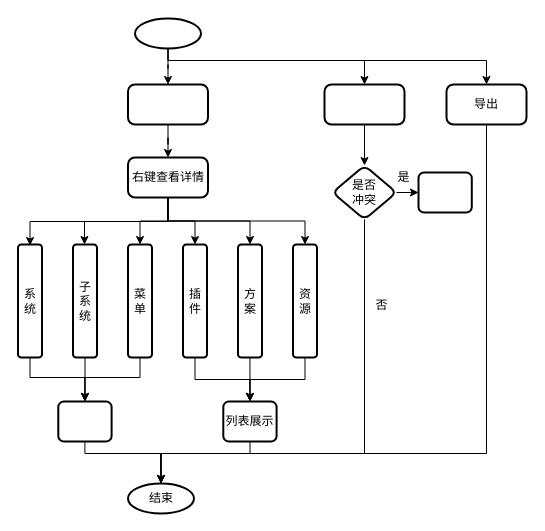
The diagram is 545 pixels wide and 531 high, and some of its shapes have lost their labels. Here are the shapes that lost their labels. From the top down, the centre of each, then its label:
the point at 168,33: 开始
the point at 167,104: 点击菜单节点，打开图谱
the point at 364,104: 导入
the point at 444,192: 提示是否覆盖导入
the point at 84,421: 基本信息展示
